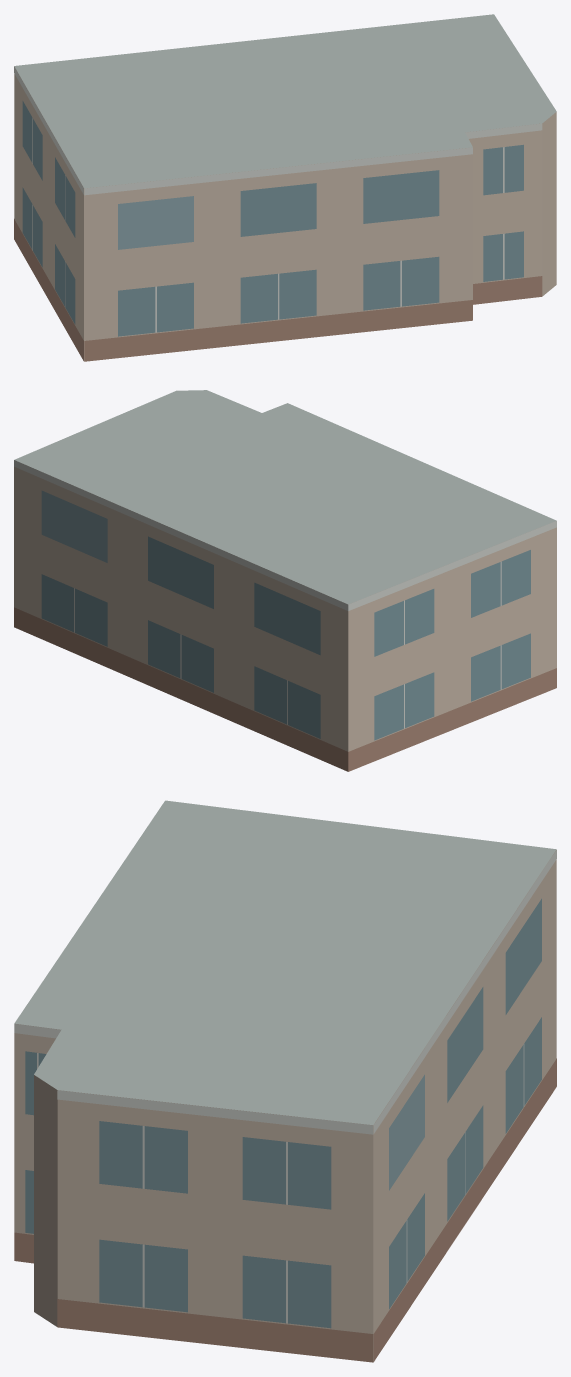
File: survey-upis-32874882.glb
3 renders of one model, top to bottom at view 1: azimuth 30°, elevation 25°; view 2: azimuth 150°, elevation 25°; view 3: azimuth 270°, elevation 25°, orthographic. The views are drawn at different scales.
Parts seen in each view (by area): view 1: survey-upis-32874882.tmp; view 2: survey-upis-32874882.tmp; view 3: survey-upis-32874882.tmp.
Boxes of the visible parts, bbox=[...] form: survey-upis-32874882.tmp: bbox=[14, 14, 556, 361]; survey-upis-32874882.tmp: bbox=[14, 390, 556, 771]; survey-upis-32874882.tmp: bbox=[14, 800, 556, 1362].
Bounding box in the file's own units: 17.92 × 6.1 × 12.65.
